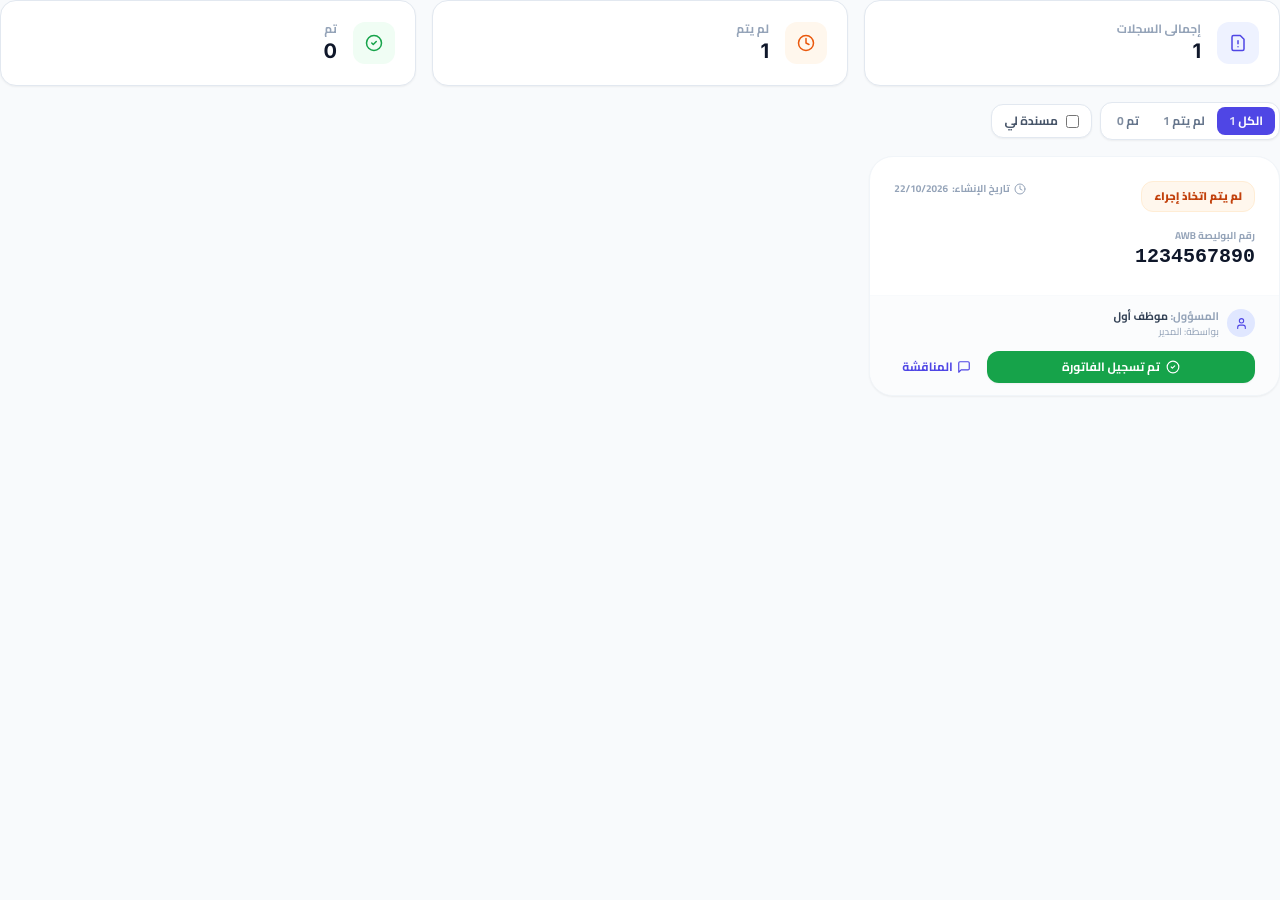
Scenario: تم تسجيل الفاتورة — link dialog › a server rejection is shown and the record stays pending
Click the button "تم تسجيل الفاتورة" at [1121, 367], box [987,351,1255,383]
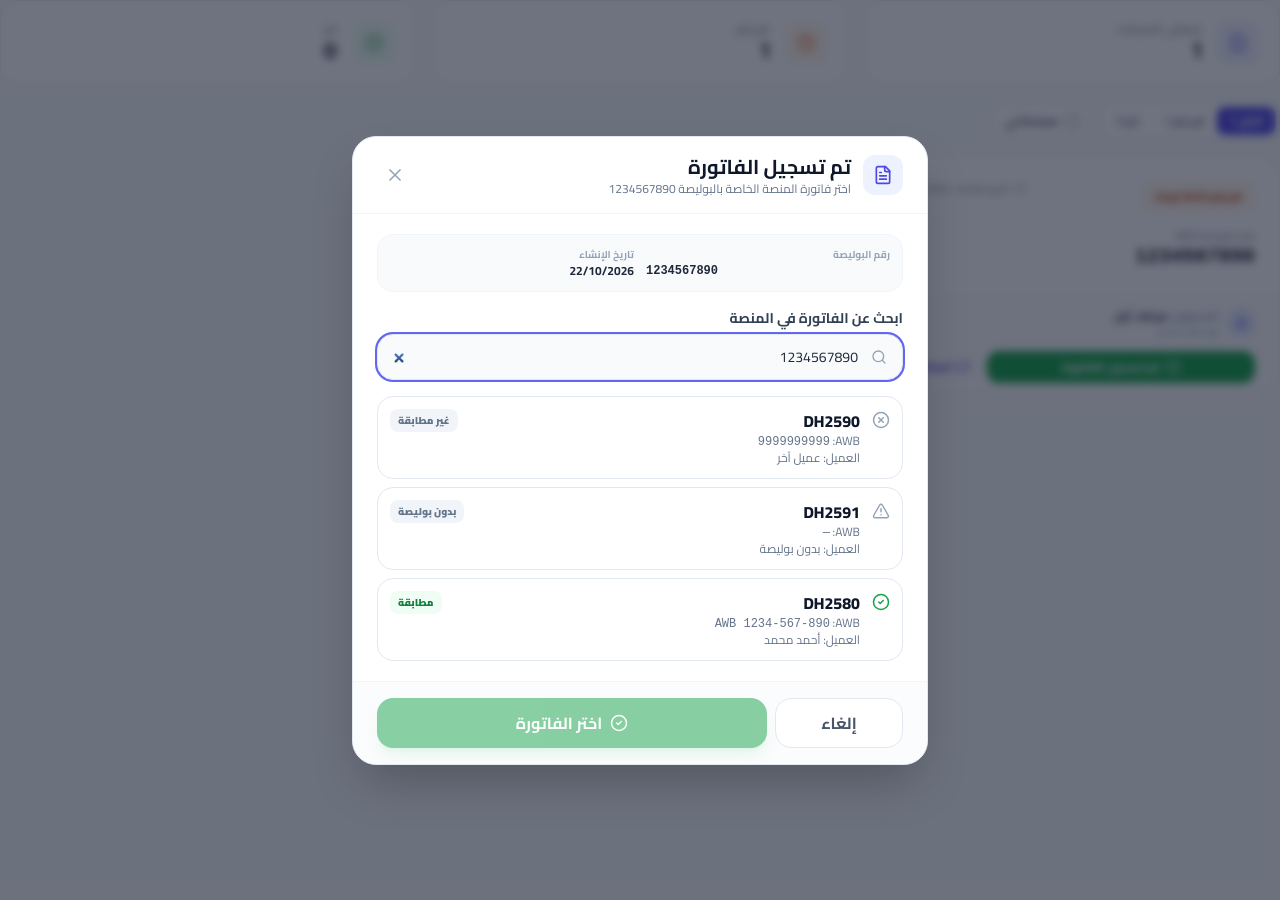
expect the text "DH2580" is shown: met, box [804,588,860,618]
Click the radio button labelled "DH2580 AWB: AWB 1234-567-890 العميل: أحمد محمد مطابقة" at [832, 602], box [377,578,903,660]
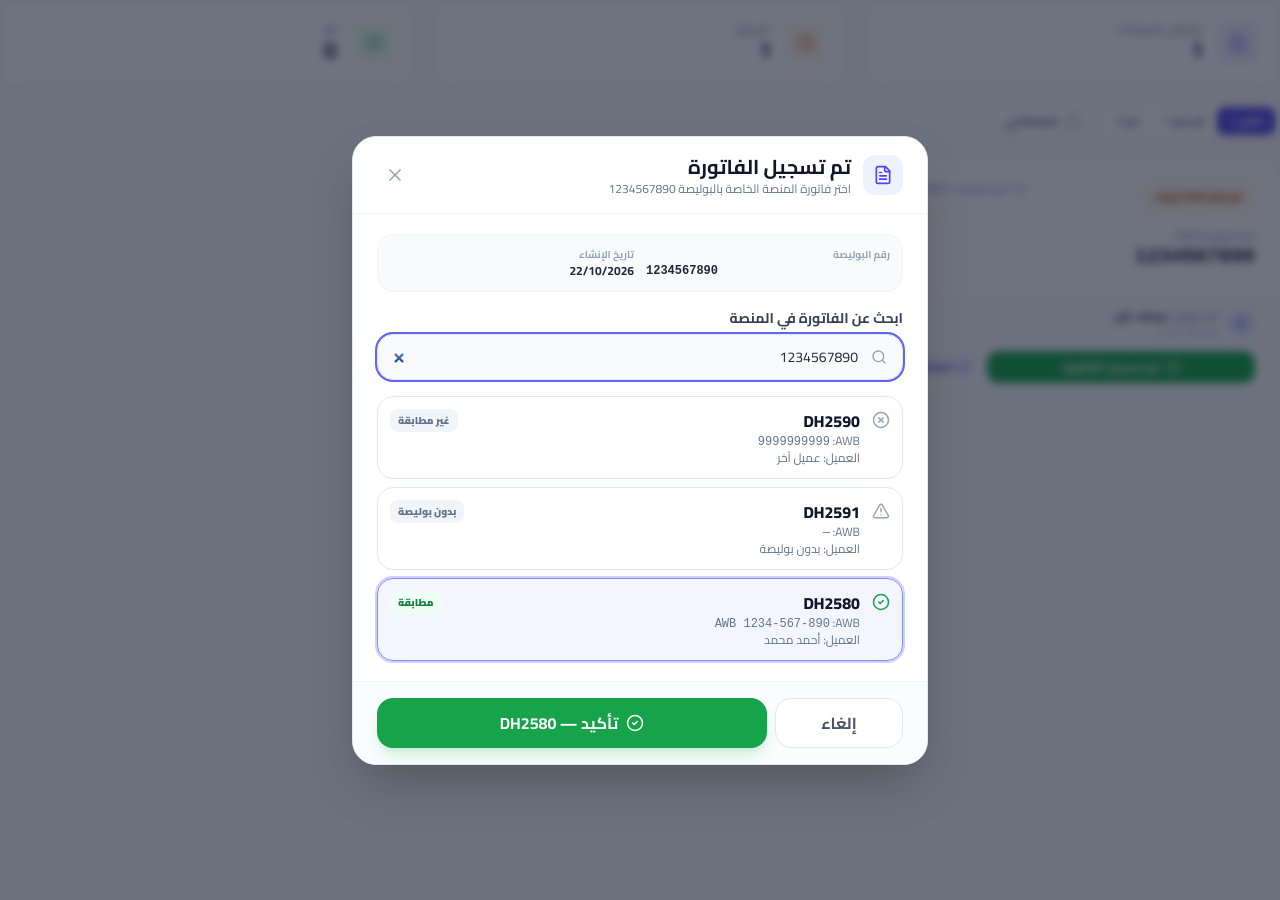
Click the button "تأكيد — DH2580" at [572, 722], box [377,698,767,748]
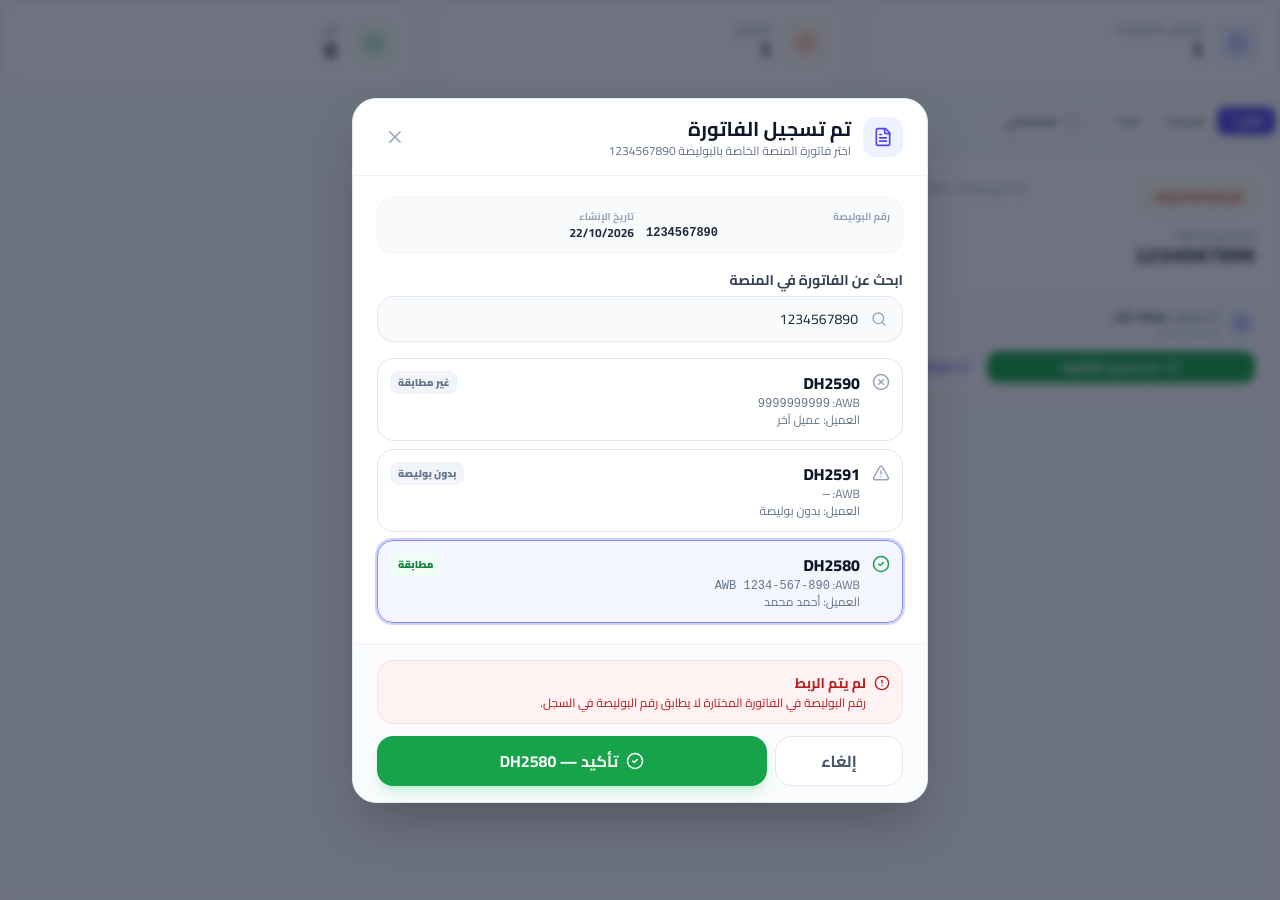
expect the text "لم يتم اتخاذ إجراء" is shown: met, box [1141,181,1255,212]
expect the text "لم يتم الربط" is shown: met, box [795,670,866,696]
expect the text "رقم البوليصة في الفاتورة المختارة لا يطابق رقم البوليصة في السجل." is shown: met, box [540,694,866,710]
